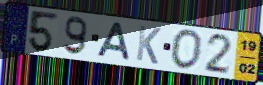2: (203, 33, 235, 76)
5: (25, 9, 61, 53)
9: (61, 16, 89, 56)
A: (95, 21, 132, 63)
K: (134, 23, 162, 66)
O: (170, 27, 205, 71)
